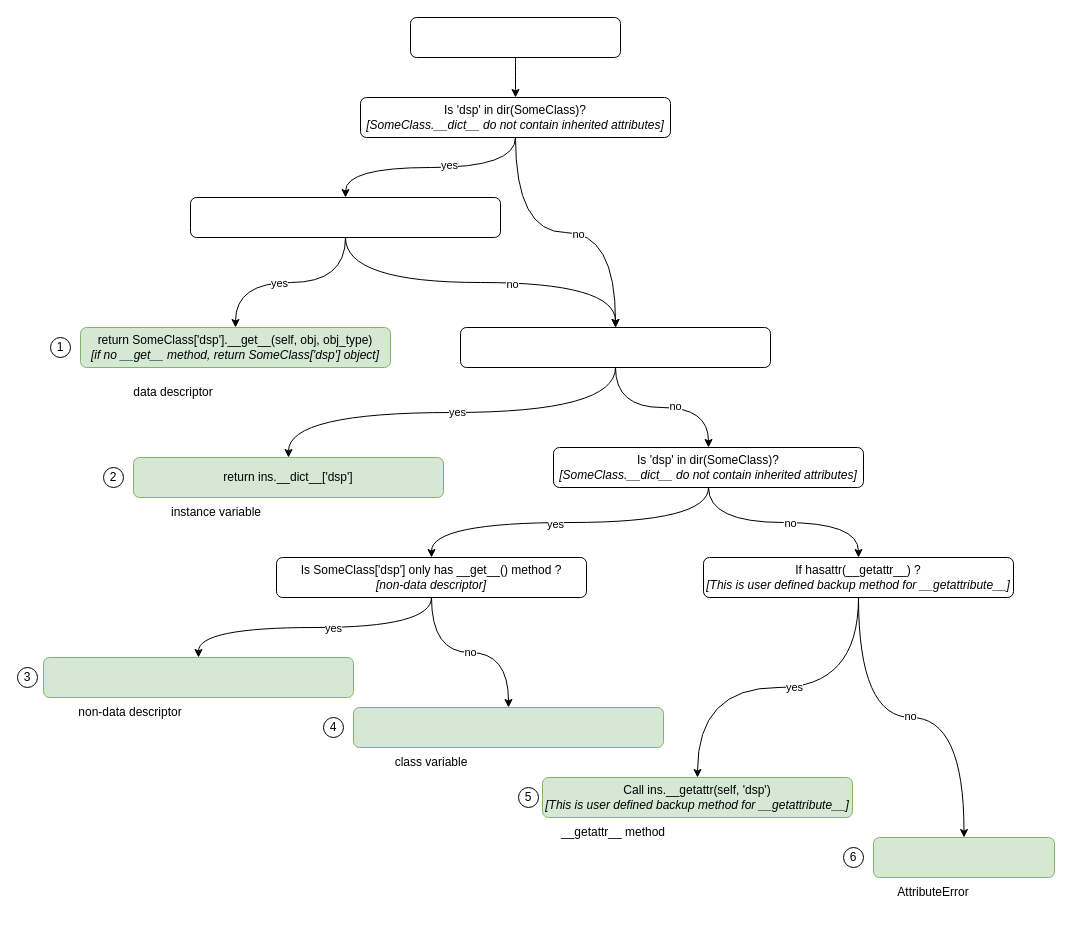
This 1072x925 diagram has some shape labels left out. Each missing label, with the centre of its shape:
"Call ins.__getattribute__(self, 'dsp')" goes at (515,37).
"Is 'dsp' in ins__dict__?" goes at (615,347).
"Is SomeClass['dsp'] has __set__() or __delete__() ? [data descriptor]" goes at (345,217).
"Raise AttributeError" goes at (963,857).
"return SomeClass['dsp']" goes at (508,727).
"return SomeClass['dsp'].__get__(self, obj, obj_type)" goes at (198,677).
